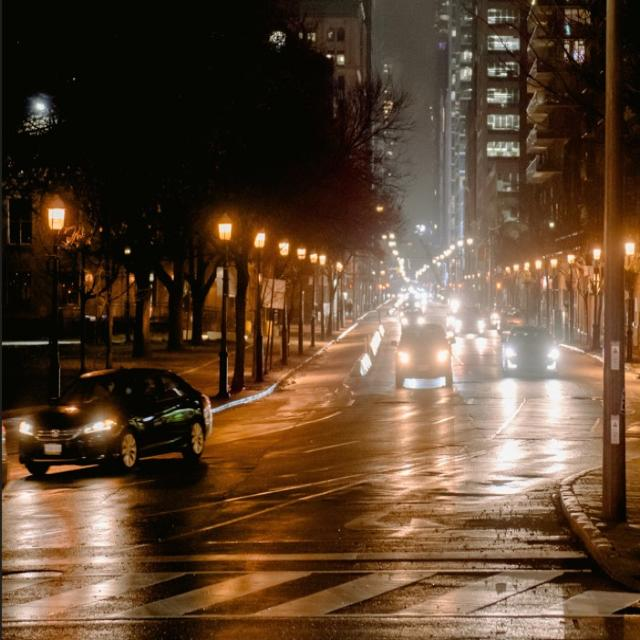car: (19, 367, 211, 464), (392, 325, 452, 388), (501, 325, 560, 374), (454, 305, 484, 336), (401, 306, 425, 331)
